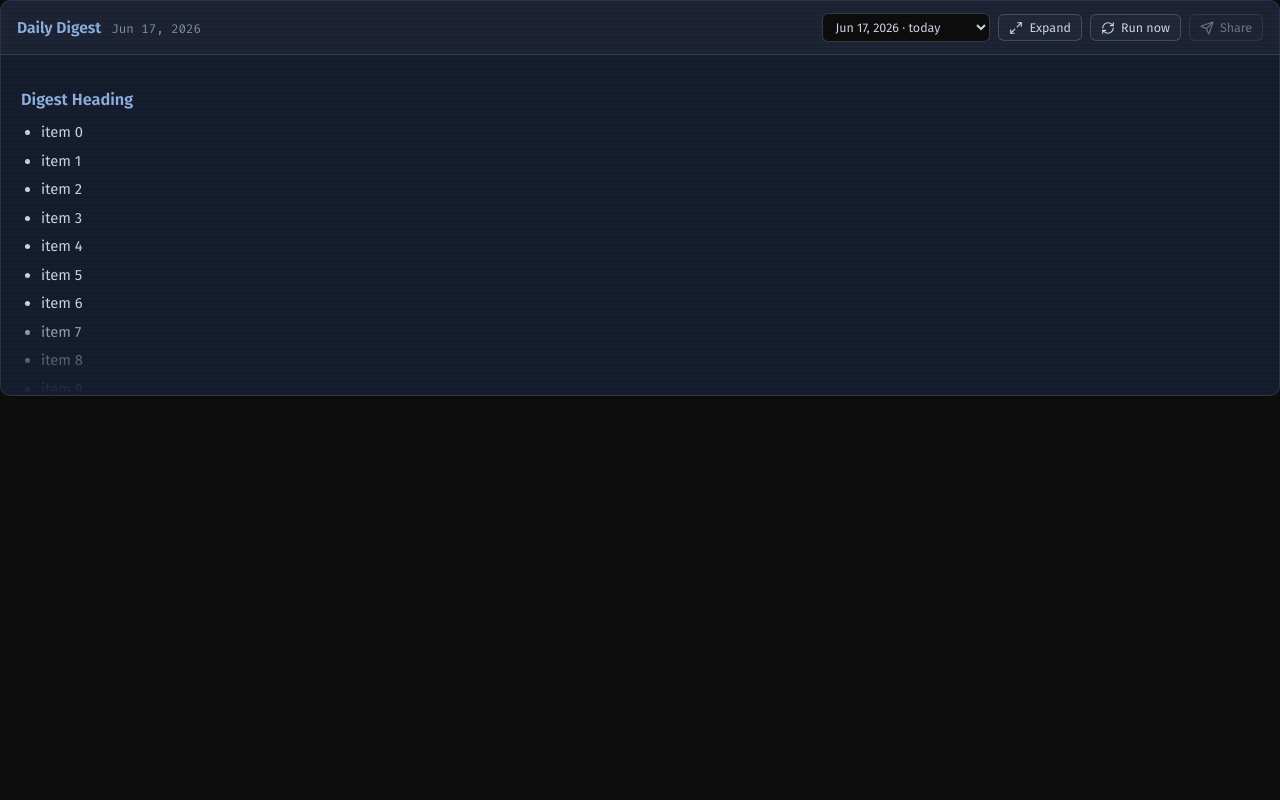
Test: ReportFeed › the expand modal can be closed
Check: the list item "item 0" is shown, box top-left (41, 123), bottom-right (83, 141)
Click the button "Expand": (1040, 28) top-left (998, 14), bottom-right (1082, 41)
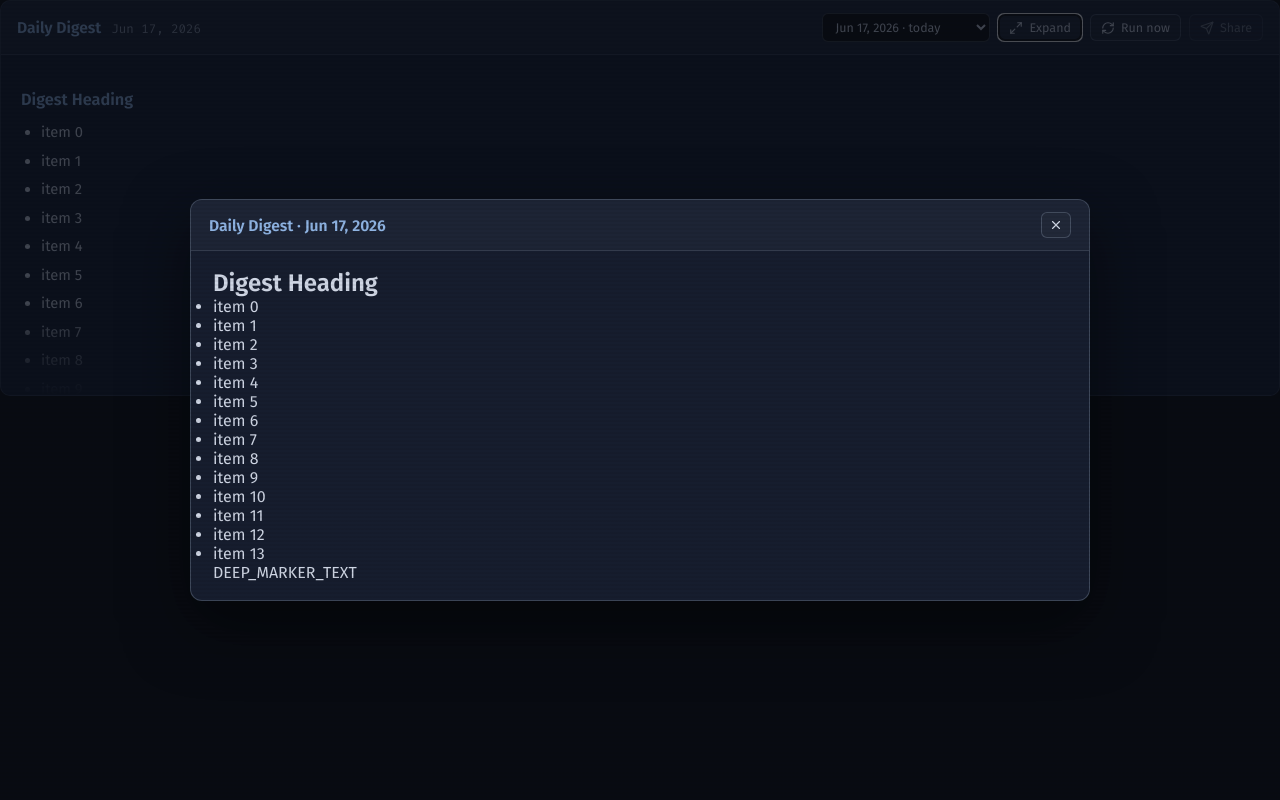
Check: the dialog is shown
Click the button named "close": (1056, 225) top-left (1041, 212), bottom-right (1071, 238)
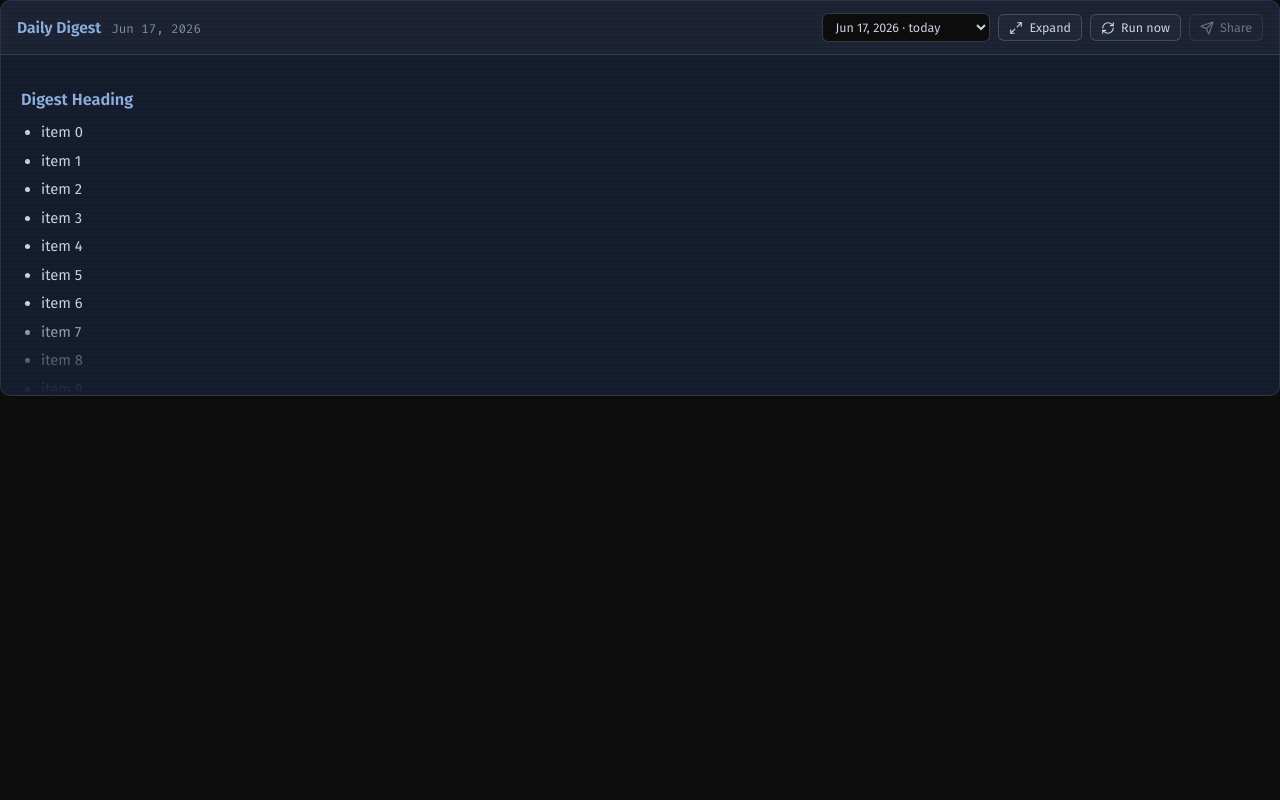
Check: the dialog is gone
